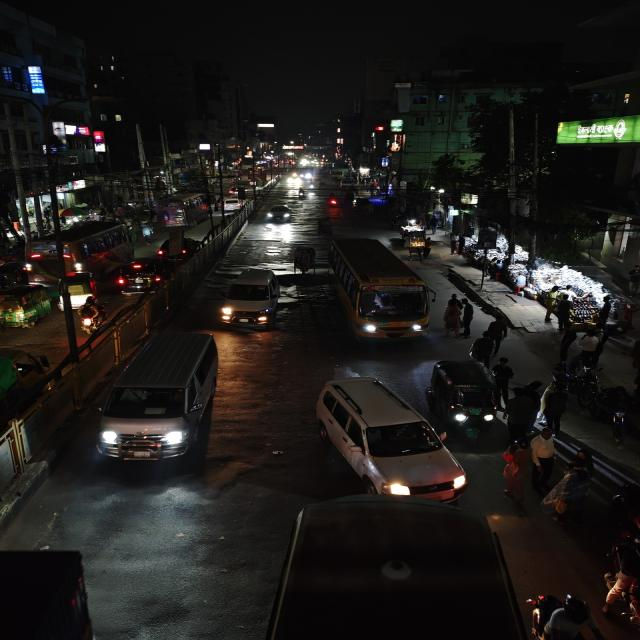bus: (328, 233, 437, 343), (28, 218, 136, 274), (156, 192, 208, 228)
car: (311, 373, 469, 501), (95, 328, 225, 470), (0, 343, 57, 445), (217, 266, 284, 329), (115, 254, 182, 296), (156, 233, 206, 260), (263, 203, 296, 225), (217, 197, 250, 215)
cng: (428, 358, 501, 434), (0, 283, 53, 328), (58, 272, 99, 308), (0, 261, 33, 293)
motorcycle: (528, 588, 616, 640), (600, 538, 640, 636), (590, 383, 640, 448), (554, 359, 603, 408), (606, 488, 640, 547), (74, 296, 108, 334), (326, 193, 341, 208), (295, 187, 308, 199)
pedestrian: (542, 466, 596, 518), (497, 443, 532, 510), (526, 425, 561, 485), (538, 382, 571, 432), (492, 355, 516, 395), (442, 295, 464, 338), (483, 318, 509, 354), (458, 296, 479, 336), (469, 332, 495, 363), (138, 221, 158, 243)
rickshaw: (403, 230, 433, 260), (291, 242, 313, 278)
